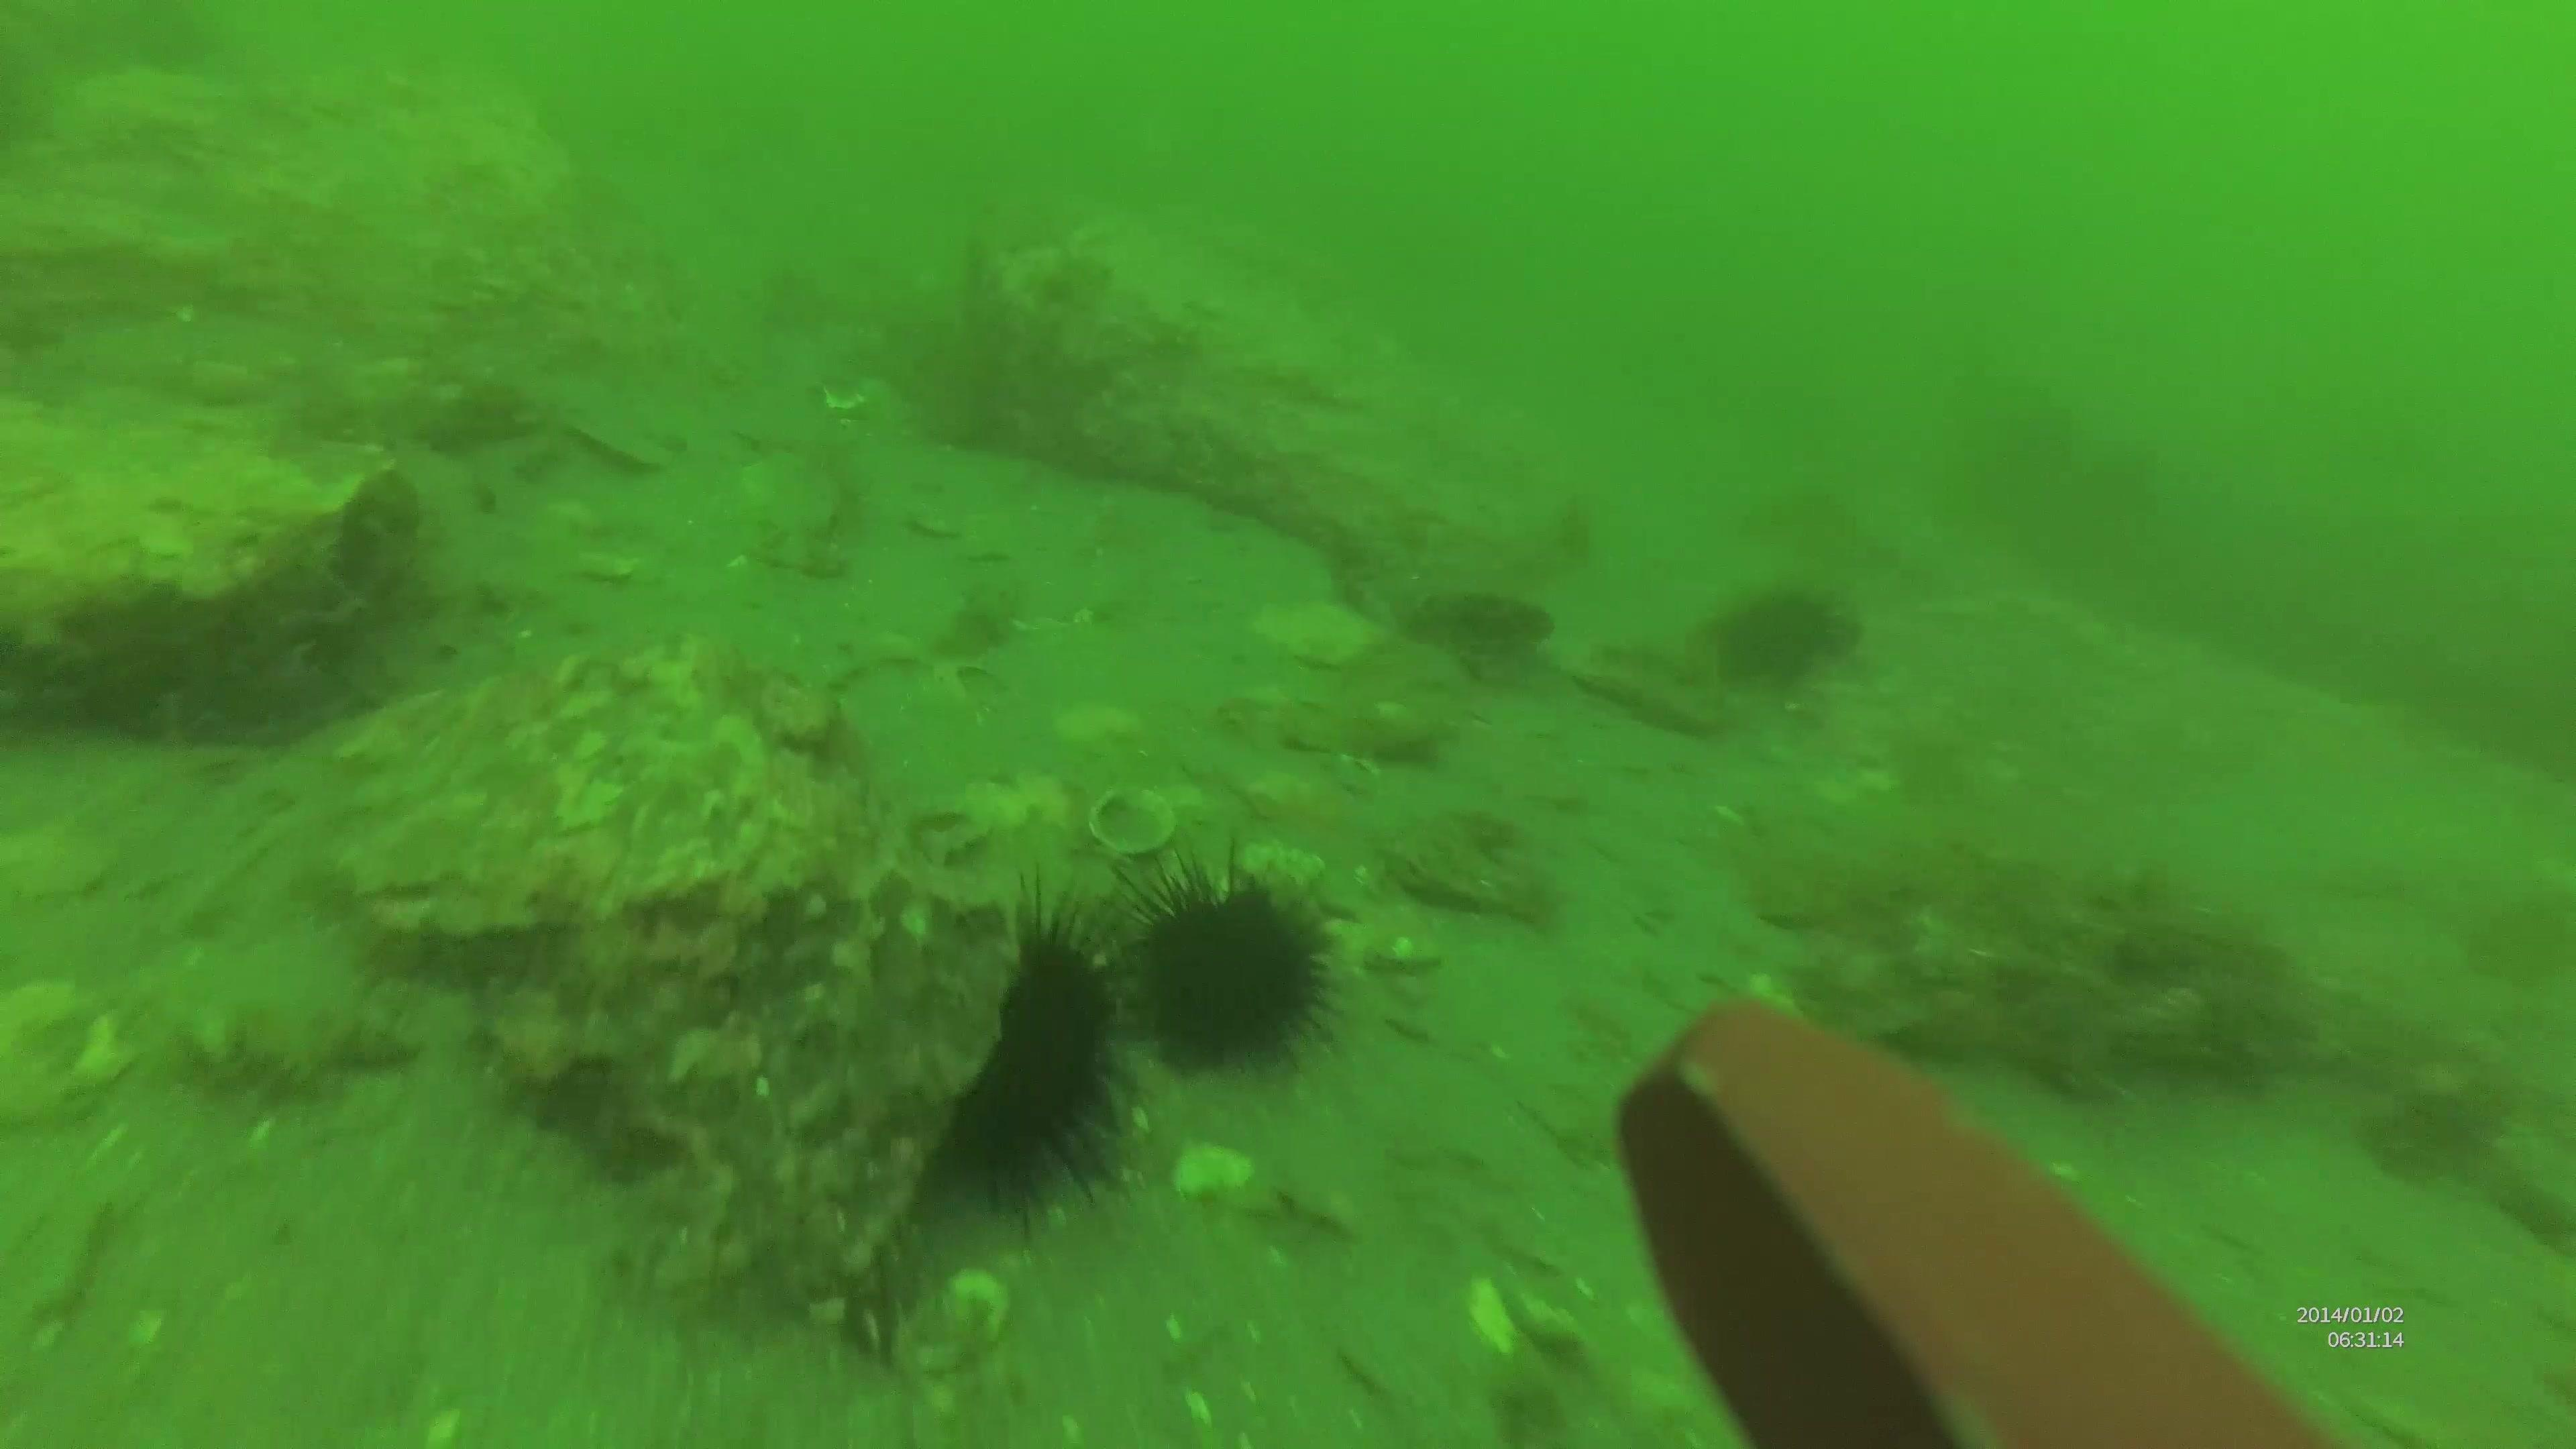echinus: (950, 863, 1139, 1238), (1099, 832, 1339, 1079), (1729, 575, 1858, 688)
